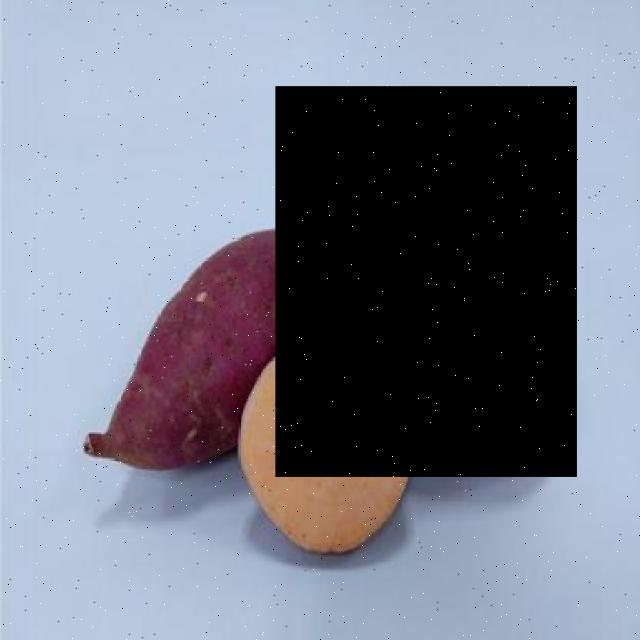Sweet_Potato: (276, 86, 578, 476)
